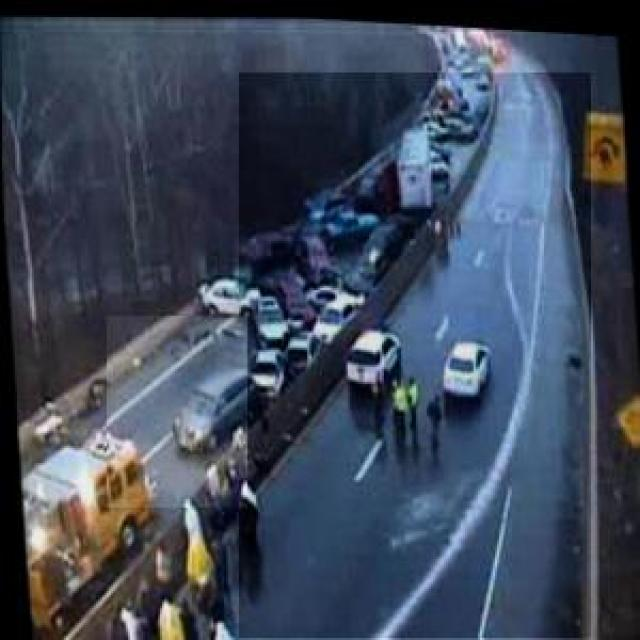ice-road: (239, 73, 591, 640), (107, 317, 247, 508)
